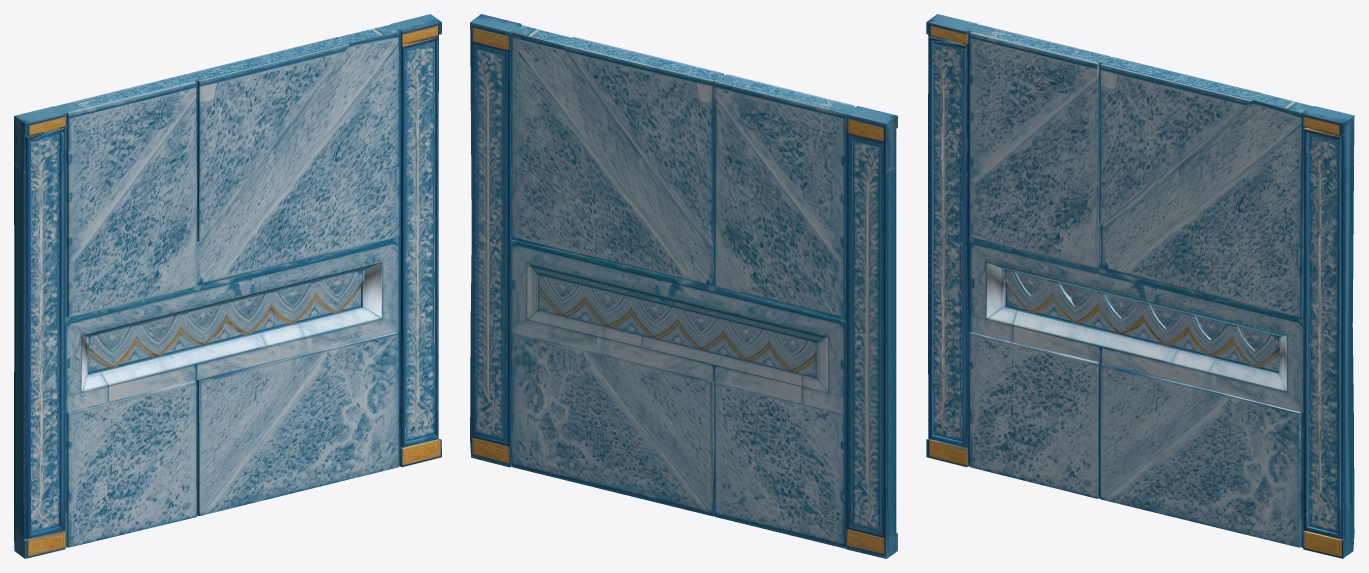
The model's file is blk_city_wall.glb.
The picture shows the model from 3 angles, left to right: view 1: azimuth 30°, elevation 25°; view 2: azimuth 150°, elevation 25°; view 3: azimuth 330°, elevation 25°; orthographic projection.
Size of the model in its own units: 0.9497 by 0.9497 by 0.0459.
Materials: 1 (1 with a texture image).
